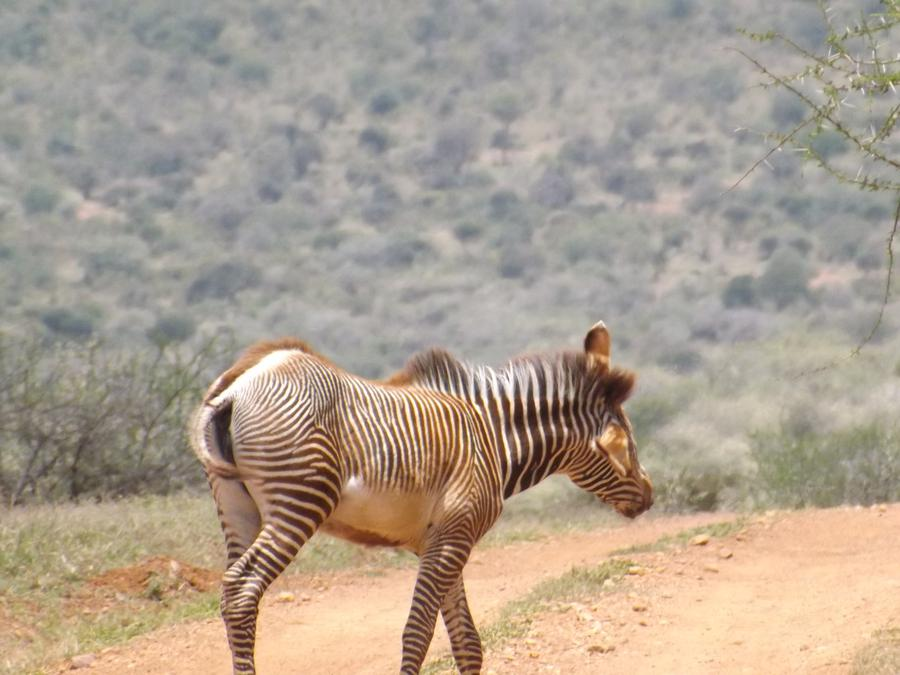zebra_grevys: (213, 324, 483, 543)
